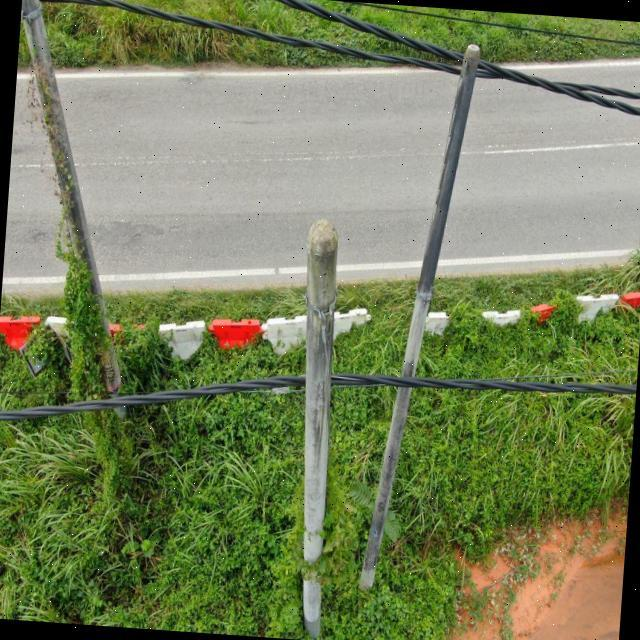critical vegetation: (0, 58, 166, 511), (267, 450, 369, 597)
